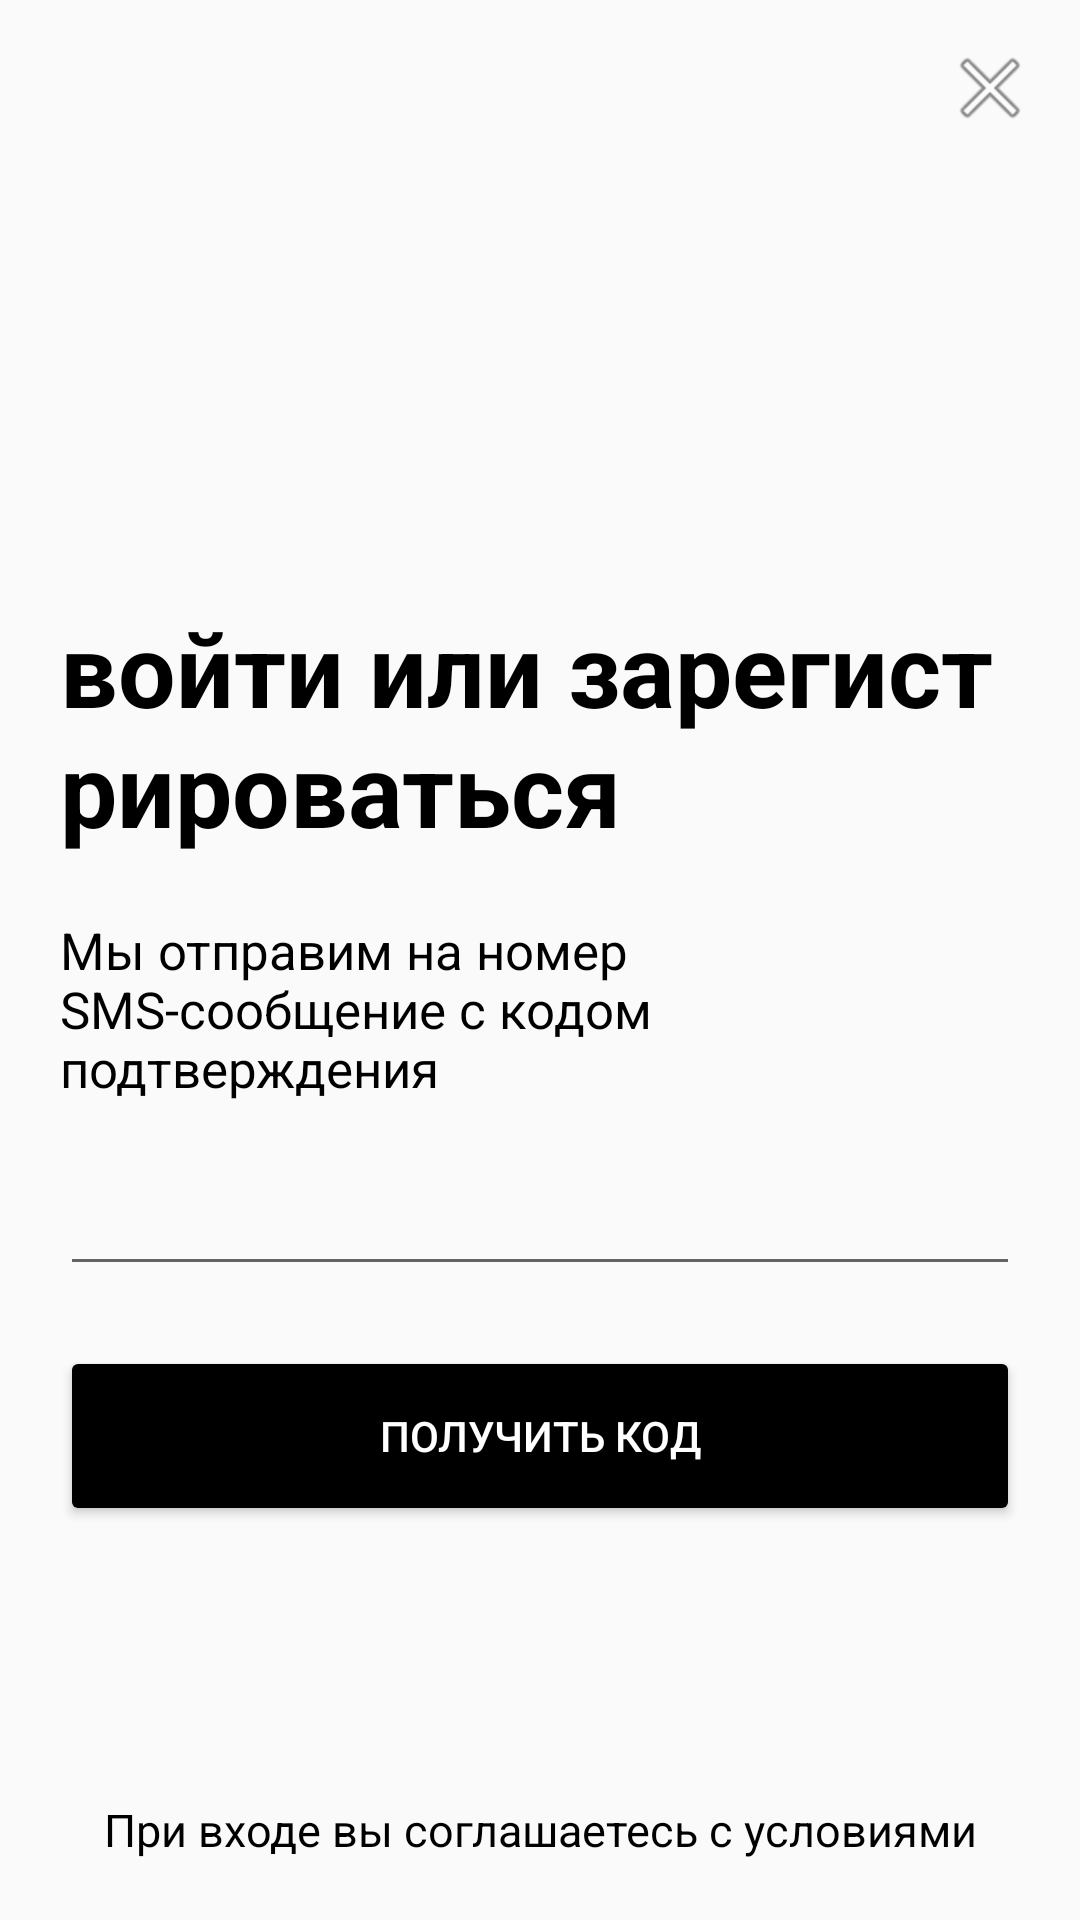

Locate icon controls on the screen. Image size 1080*1920, boxes as rect(x1, y1, x2, y2).
close clear cancel: rect(960, 58, 1020, 118)
